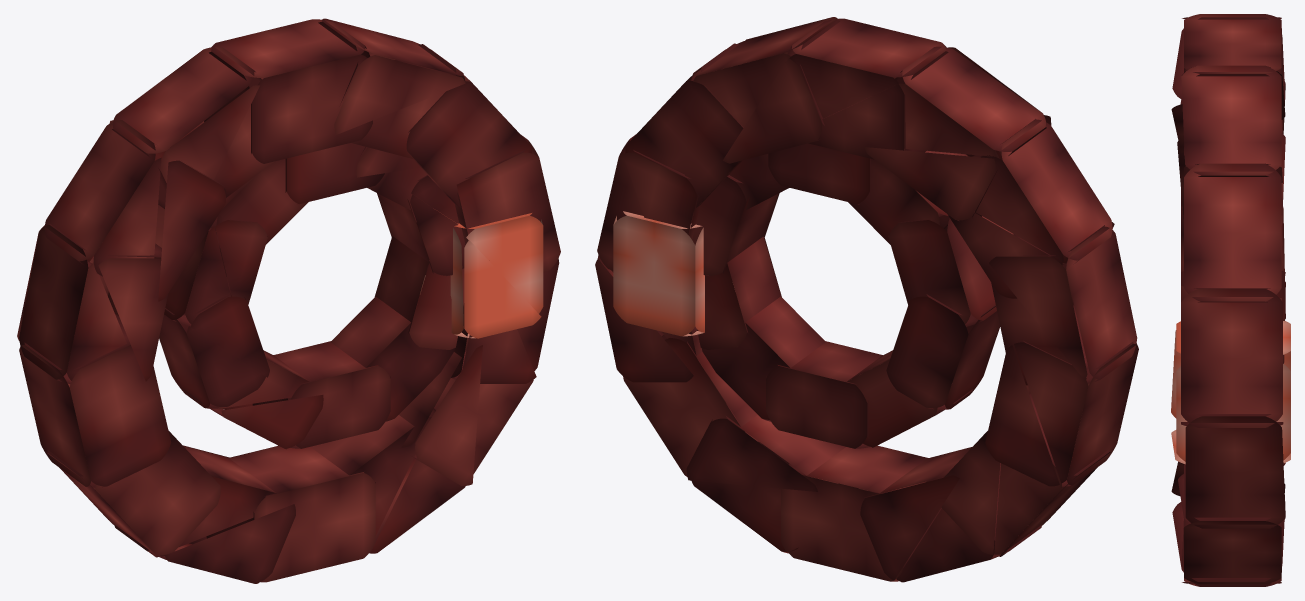
Rendered from titan_sinew.obj.
The picture shows the model from 3 angles, left to right: view 1: azimuth 30°, elevation 25°; view 2: azimuth 150°, elevation 25°; view 3: azimuth 270°, elevation 25°; orthographic projection.
Parts seen in each view (by area): view 1: lit, fire; view 2: lit, fire; view 3: lit, fire.
Boxes of the visible parts, <box> form: lit: <box>17,18,560,583</box>; fire: <box>420,213,543,338</box>; lit: <box>595,17,1138,582</box>; fire: <box>613,211,704,336</box>; lit: <box>1171,14,1285,586</box>; fire: <box>1171,321,1290,464</box>.
Size of the model in its own units: 0.6063 by 0.5948 by 0.1256.
